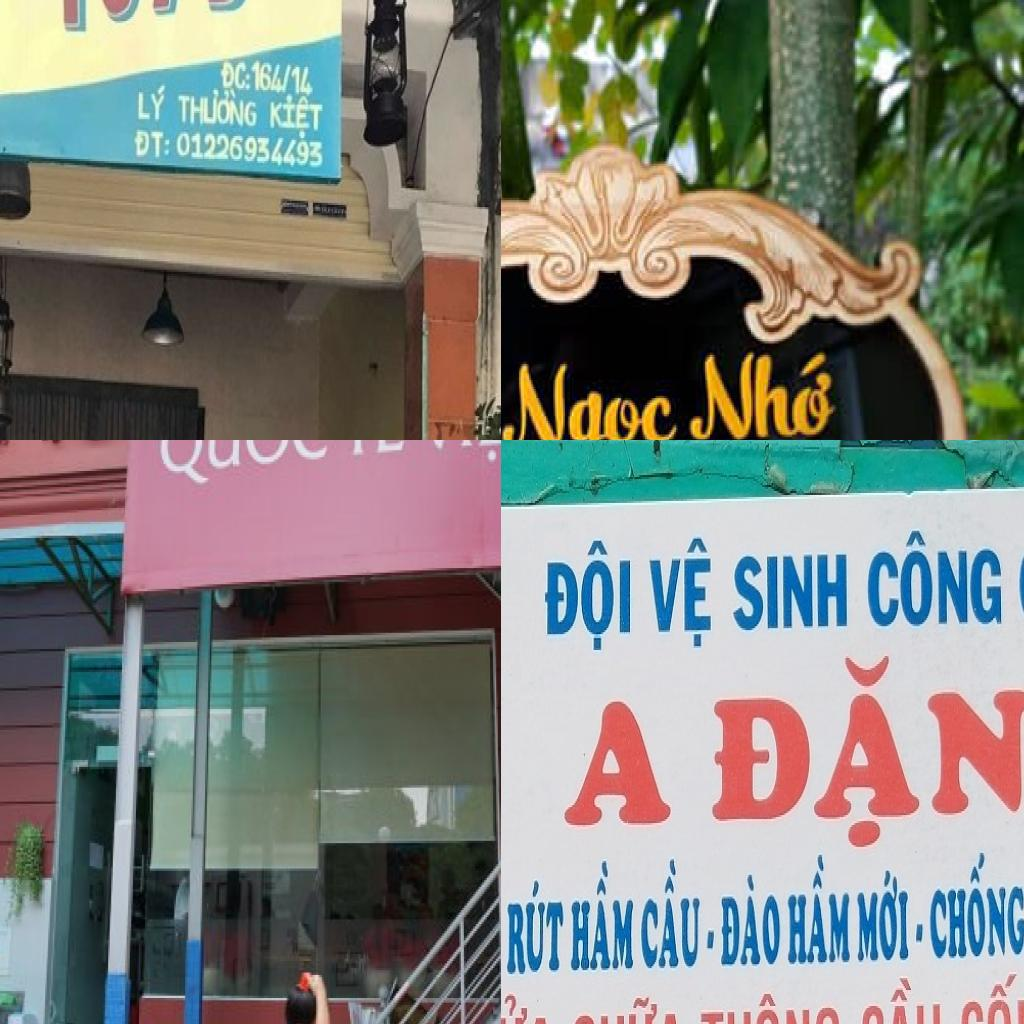text: (697, 644, 1024, 853), (557, 684, 683, 833), (862, 521, 1005, 636), (501, 355, 682, 440), (682, 348, 838, 440), (728, 541, 853, 642), (927, 848, 1024, 972), (540, 535, 636, 660), (638, 853, 719, 976), (642, 529, 718, 654), (159, 440, 330, 494), (783, 851, 854, 972), (568, 855, 637, 978), (852, 867, 927, 970), (502, 875, 567, 982), (718, 871, 783, 976), (176, 128, 326, 170), (695, 984, 846, 1024), (857, 974, 949, 1024), (566, 990, 689, 1024), (179, 82, 259, 130), (956, 968, 1024, 1024), (252, 56, 314, 98), (270, 96, 324, 142), (501, 988, 559, 1024), (337, 440, 408, 461), (138, 80, 169, 124), (134, 128, 171, 163), (219, 57, 253, 94)
